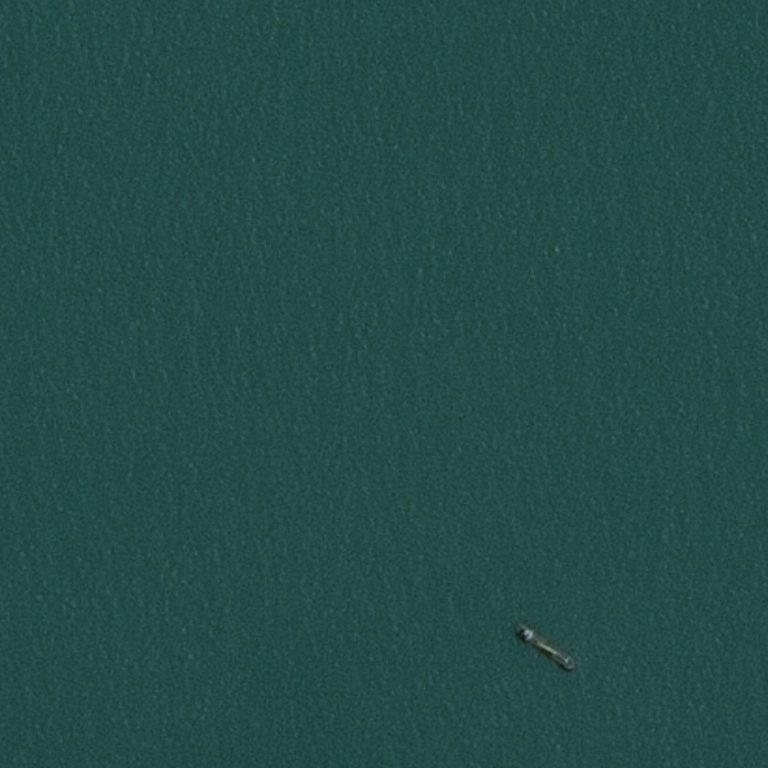ship: (510, 618, 582, 675)
